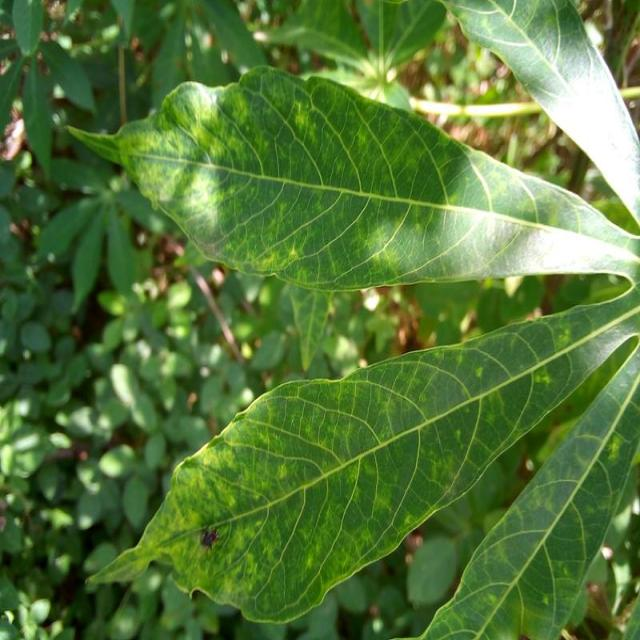cassava leaf: (86, 286, 640, 626), (66, 62, 640, 292)
